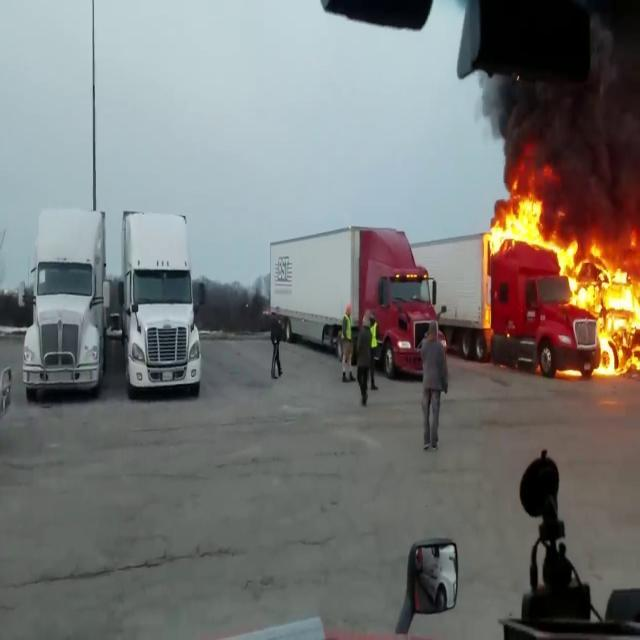Fire: (558, 230, 640, 376), (483, 180, 566, 258)
Smoke: (465, 2, 640, 224)
